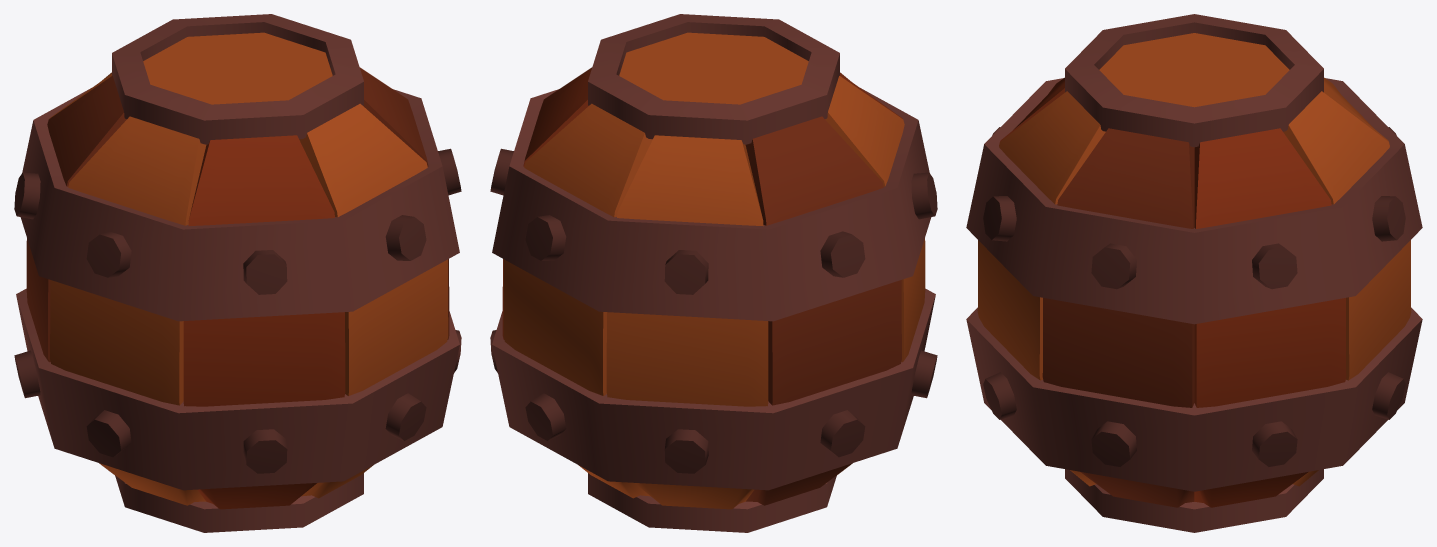
3 renders of one model, left to right at view 1: azimuth 30°, elevation 25°; view 2: azimuth 150°, elevation 25°; view 3: azimuth 270°, elevation 25°, orthographic.
Visible parts, largest first — view 1: Vert.057; view 2: Vert.057; view 3: Vert.057.
Boxes of the visible parts, box(x1,y1,x2,y2) form: Vert.057: box(14, 14, 461, 532); Vert.057: box(490, 14, 937, 532); Vert.057: box(966, 14, 1422, 532).
Size of the model in its own units: 98.67 by 99.55 by 98.67.
